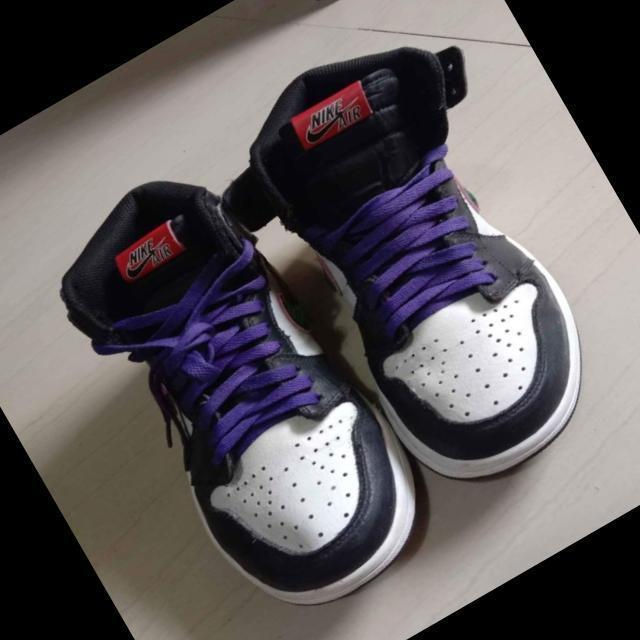nike fake jordan 1: (24, 131, 454, 640), (216, 5, 640, 513)
